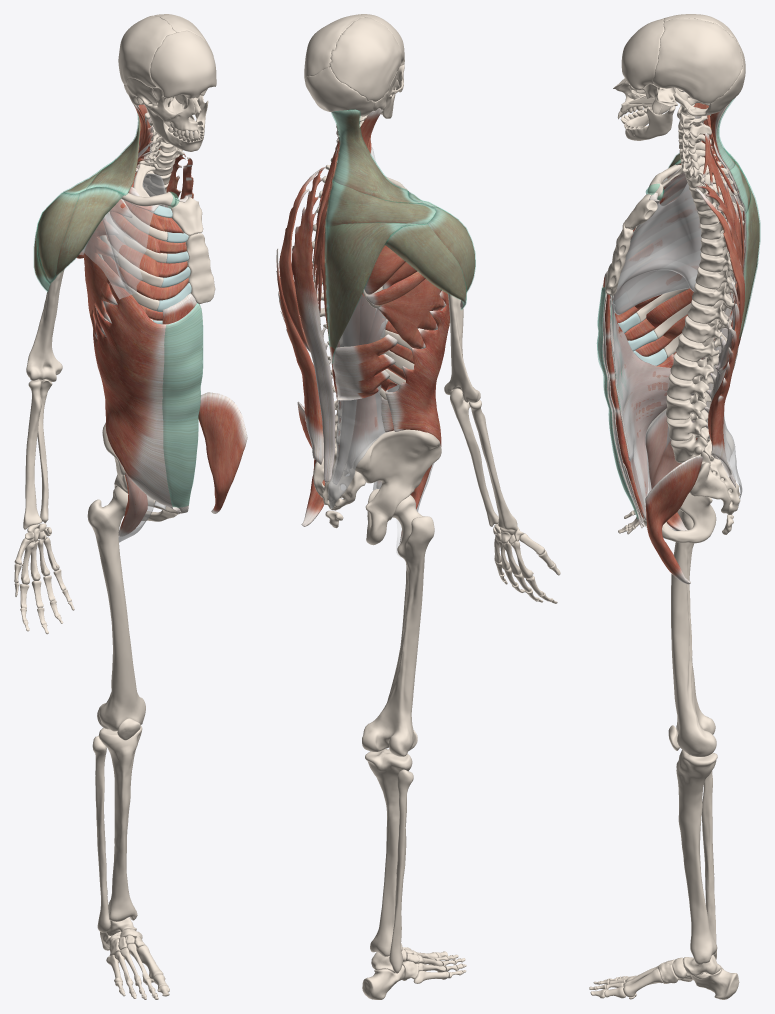
The model's file is anatomy.glb.
3 renders of one model, left to right at view 1: azimuth 30°, elevation 25°; view 2: azimuth 150°, elevation 25°; view 3: azimuth 270°, elevation 25°, orthographic. The views are drawn at different scales.
Visible parts, largest first — view 1: External abdominal oblique muscle.r, Rectus sheath (Anterior leaf overlay).r, Femur.r, Deltoid muscle.r, Iliacus muscle.r, Clavipectoral fascia.r, Tibia.r, Frontal bone, Serratus anterior muscle.r, External intercostal muscles.r, Deltoid muscle (Clavicular part overlay).r, Parietal bone right (+19 smaller); view 2: Trapezius muscle.r, Femur.r, Longissimus thoracis muscle.r, Hip bone.r, Trapezius muscle (Ascending part overlay).r, Deltoid muscle.r, External abdominal oblique muscle.r, Parietal bone right, Iliocostalis lumborum muscle.r, Tibia.r, Thoracolumbar fascia (posterior layer).r, Trapezius muscle (Descending part overlay).r (+19 smaller); view 3: Endothoracic fascia.r, Parietal bone left, Femur.r, Transversalis fascia.r, Transverse abdominal muscle.r, Iliacus muscle.r, Tibia.r, Trapezius muscle.r, Frontal bone, Innermost intercostal muscles.r, Iliocostalis lumborum muscle.r, Hip bone.r (+38 smaller).
Boxes of the visible parts, <box> form: External abdominal oblique muscle.r: <box>93,283,202,514</box>; Rectus sheath (Anterior leaf overlay).r: <box>162,303,202,507</box>; Femur.r: <box>87,486,145,731</box>; Deltoid muscle.r: <box>34,187,123,291</box>; Iliacus muscle.r: <box>118,392,247,536</box>; Clavipectoral fascia.r: <box>79,199,160,299</box>; Tibia.r: <box>98,725,142,921</box>; Frontal bone: <box>150,31,216,98</box>; Serratus anterior muscle.r: <box>84,186,139,339</box>; External intercostal muscles.r: <box>99,172,164,312</box>; Deltoid muscle (Clavicular part overlay).r: <box>52,187,124,281</box>; Parietal bone right: <box>118,15,176,87</box>; Trapezius muscle.r: <box>325,110,435,364</box>; Femur.r: <box>362,495,434,756</box>; Longissimus thoracis muscle.r: <box>291,167,360,484</box>; Hip bone.r: <box>353,429,441,545</box>; Trapezius muscle (Ascending part overlay).r: <box>325,222,417,363</box>; Deltoid muscle.r: <box>385,192,475,309</box>; External abdominal oblique muscle.r: <box>385,290,449,446</box>; Parietal bone right: <box>329,17,401,101</box>; Iliocostalis lumborum muscle.r: <box>276,248,388,470</box>; Tibia.r: <box>365,749,412,956</box>; Thoracolumbar fascia (posterior layer).r: <box>328,392,385,508</box>; Trapezius muscle (Descending part overlay).r: <box>331,110,422,203</box>; Endothoracic fascia.r: <box>613,172,701,315</box>; Parietal bone left: <box>652,18,742,103</box>; Femur.r: <box>671,509,716,756</box>; Transversalis fascia.r: <box>611,297,705,516</box>; Transverse abdominal muscle.r: <box>610,295,670,522</box>; Iliacus muscle.r: <box>645,410,702,584</box>; Tibia.r: <box>676,749,717,965</box>; Trapezius muscle.r: <box>675,101,759,347</box>; Frontal bone: <box>621,18,664,89</box>; Innermost intercostal muscles.r: <box>629,173,699,339</box>; Iliocostalis lumborum muscle.r: <box>708,282,740,477</box>; Hip bone.r: <box>643,403,733,543</box>.
Bounding box in the file's own units: 0.4548 × 1.7 × 0.2637.
Materials: 143 (6 with a texture image).
